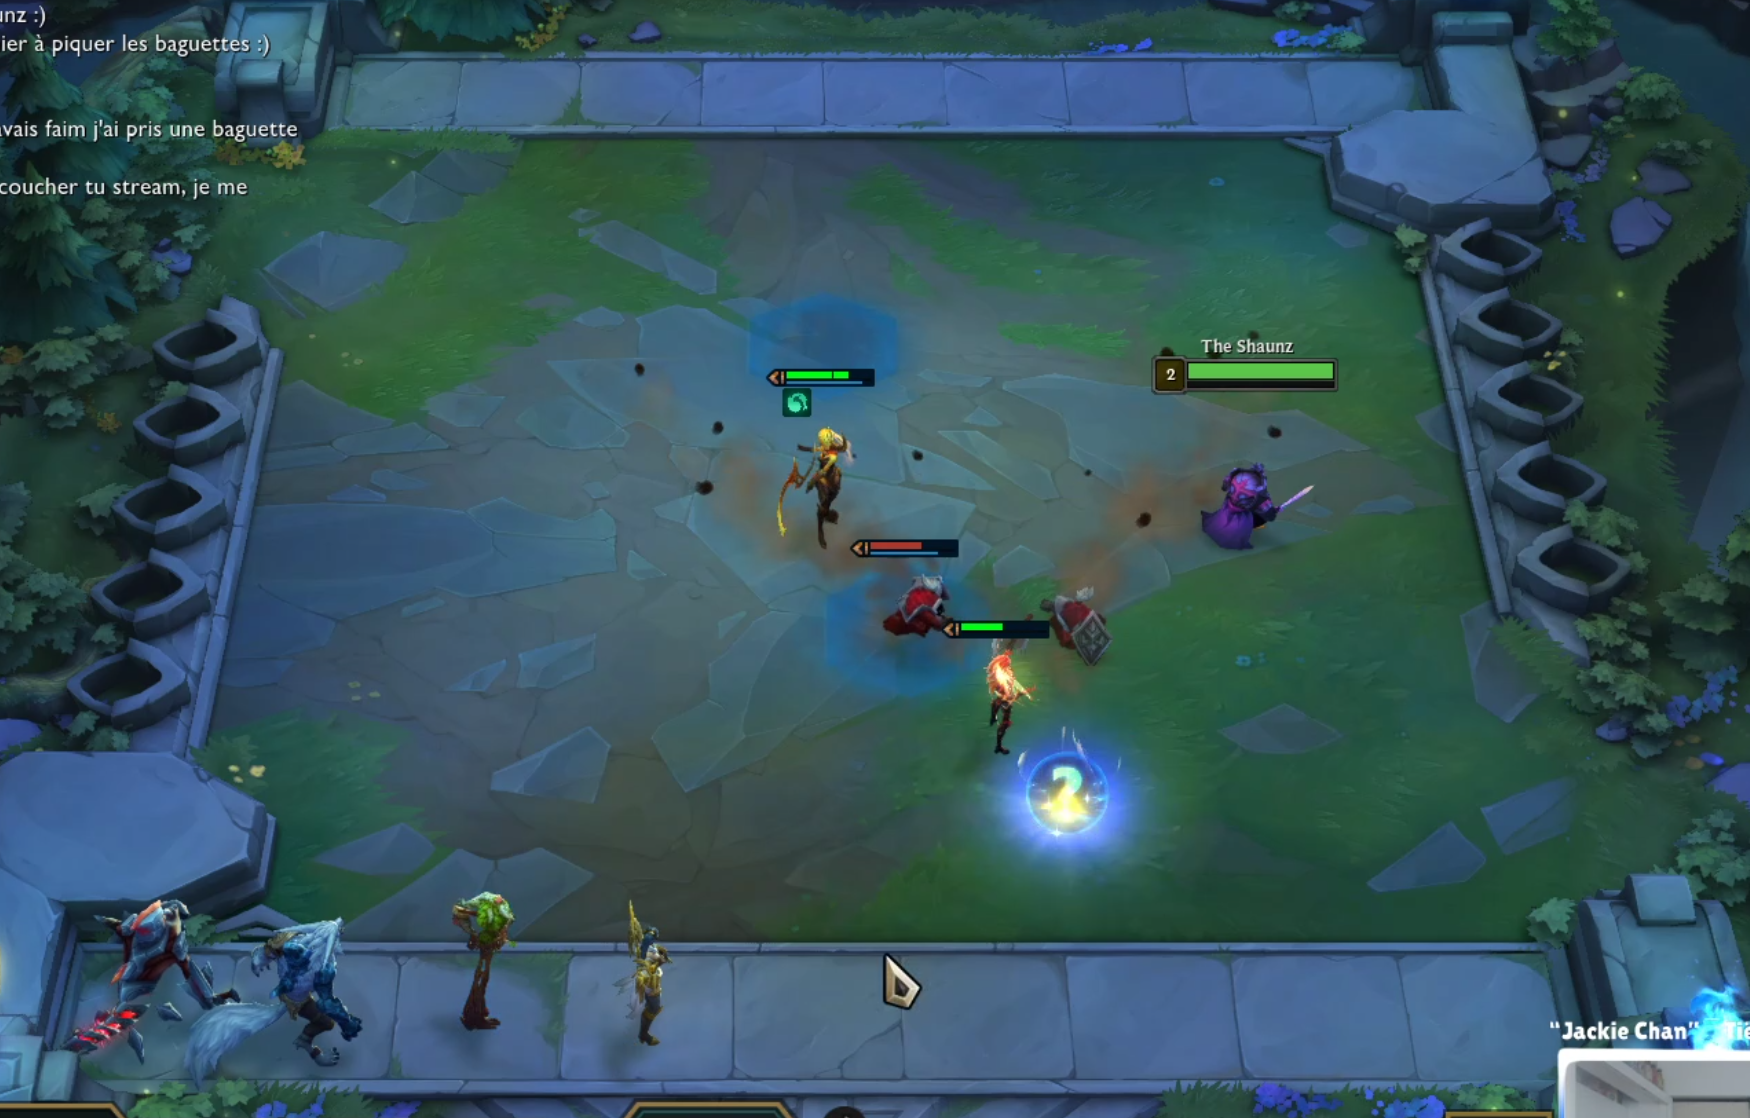blue orb: (1024, 750, 1112, 838)
